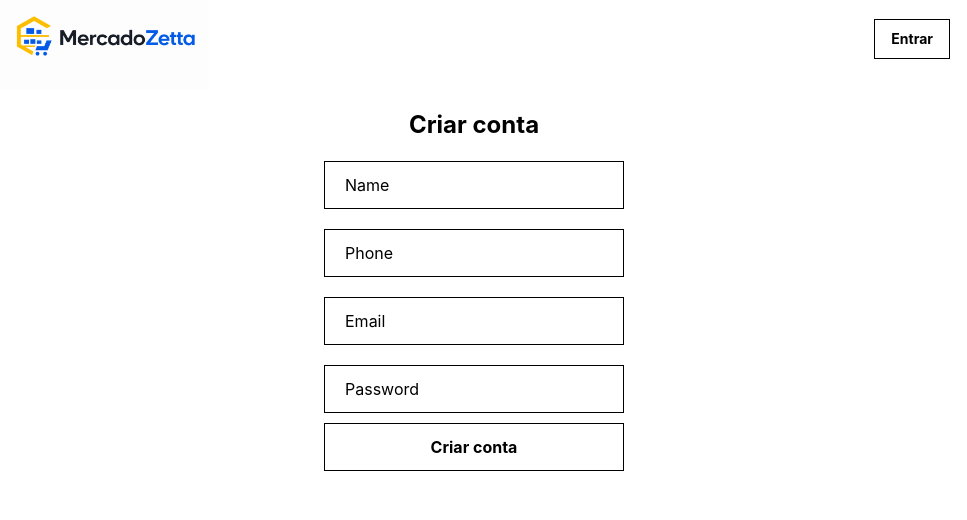
it: AddUser › shows the API error when registration fails
Check: the heading "Criar conta" is shown, box [409,110,539,139]
Type "Smoke User" into the field labelled "Name". click: (474,185)
box: [324,161,624,209]
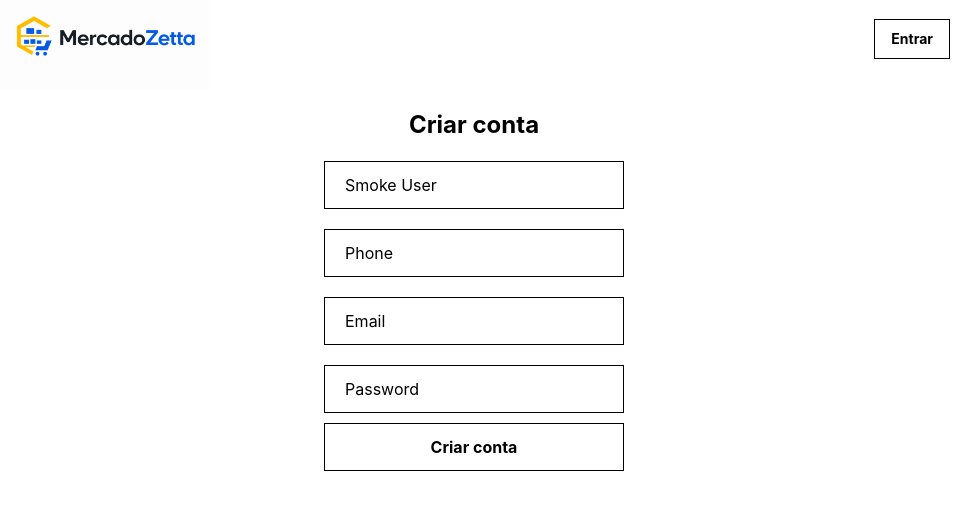
Type "48999999999" into the field labelled "Phone". click: (474,253)
box: [324,229,624,277]
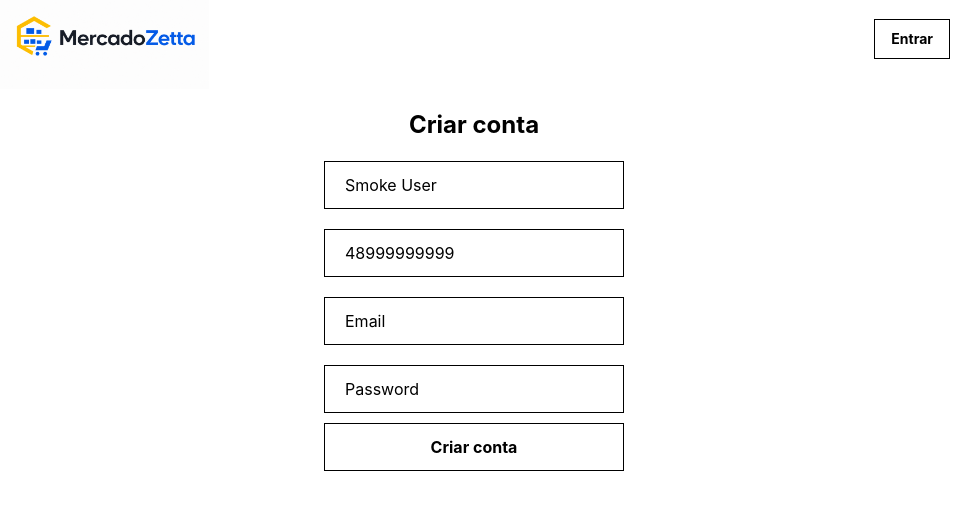
Type "smoke@example.com" into the field labelled "Email". click: (474,321)
box: [324,297,624,345]
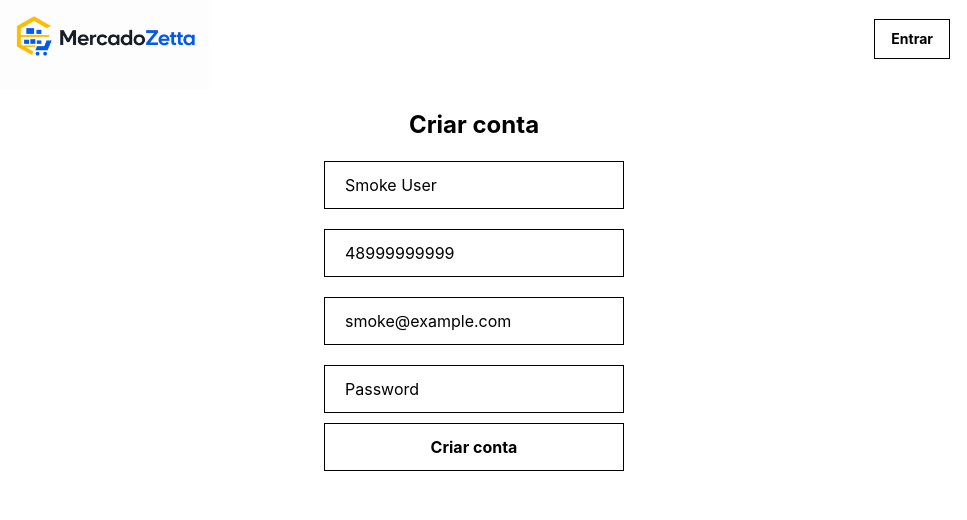
Type "secret123" into the password field labelled "Password". click: (474,389)
box: [324,365,624,413]
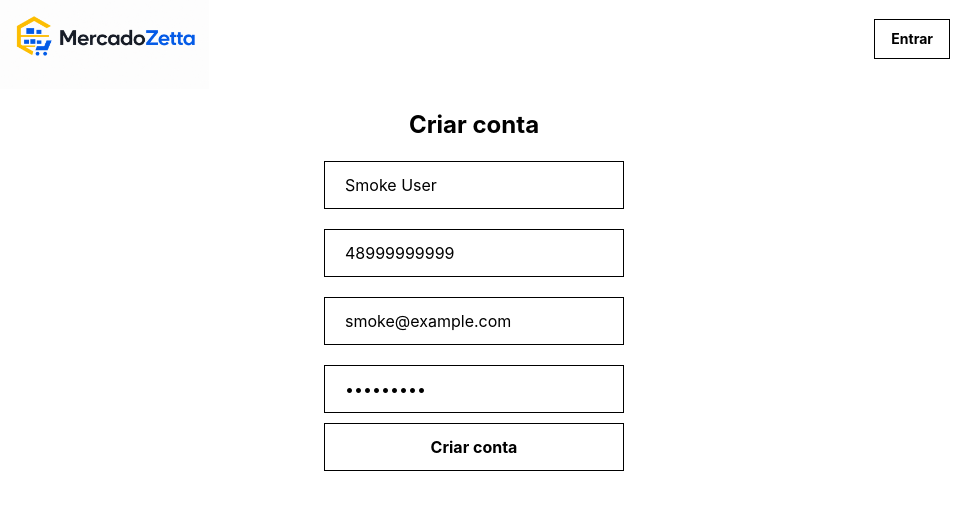
Click the button "Criar conta". click: (474,447)
box: [324,423,624,471]
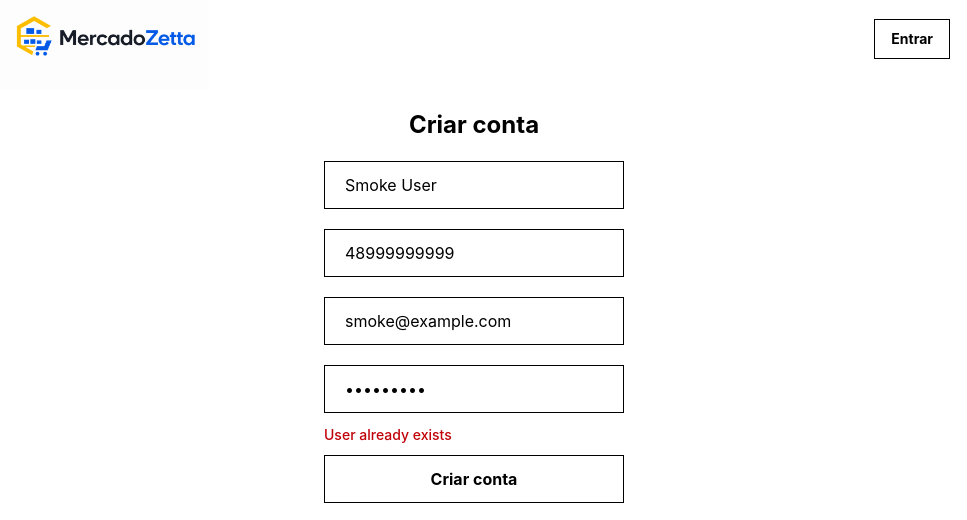
Check: the message reads "User already exists", box [324,426,452,443]
